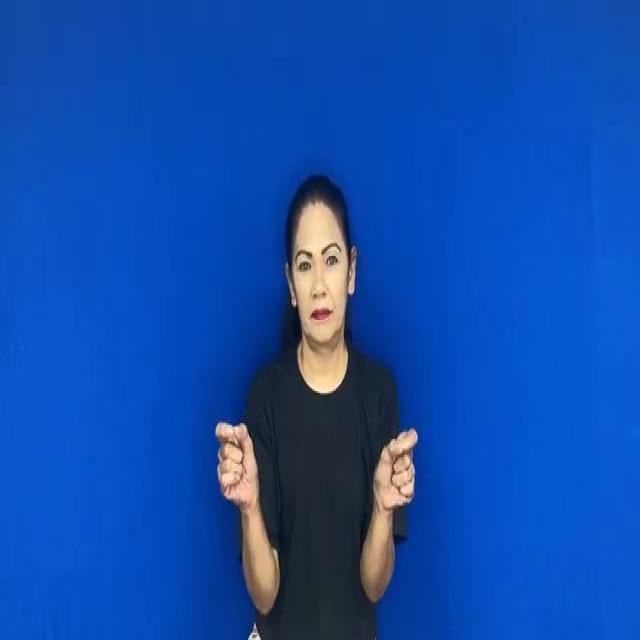crab: (208, 412, 268, 522), (365, 413, 427, 513)
